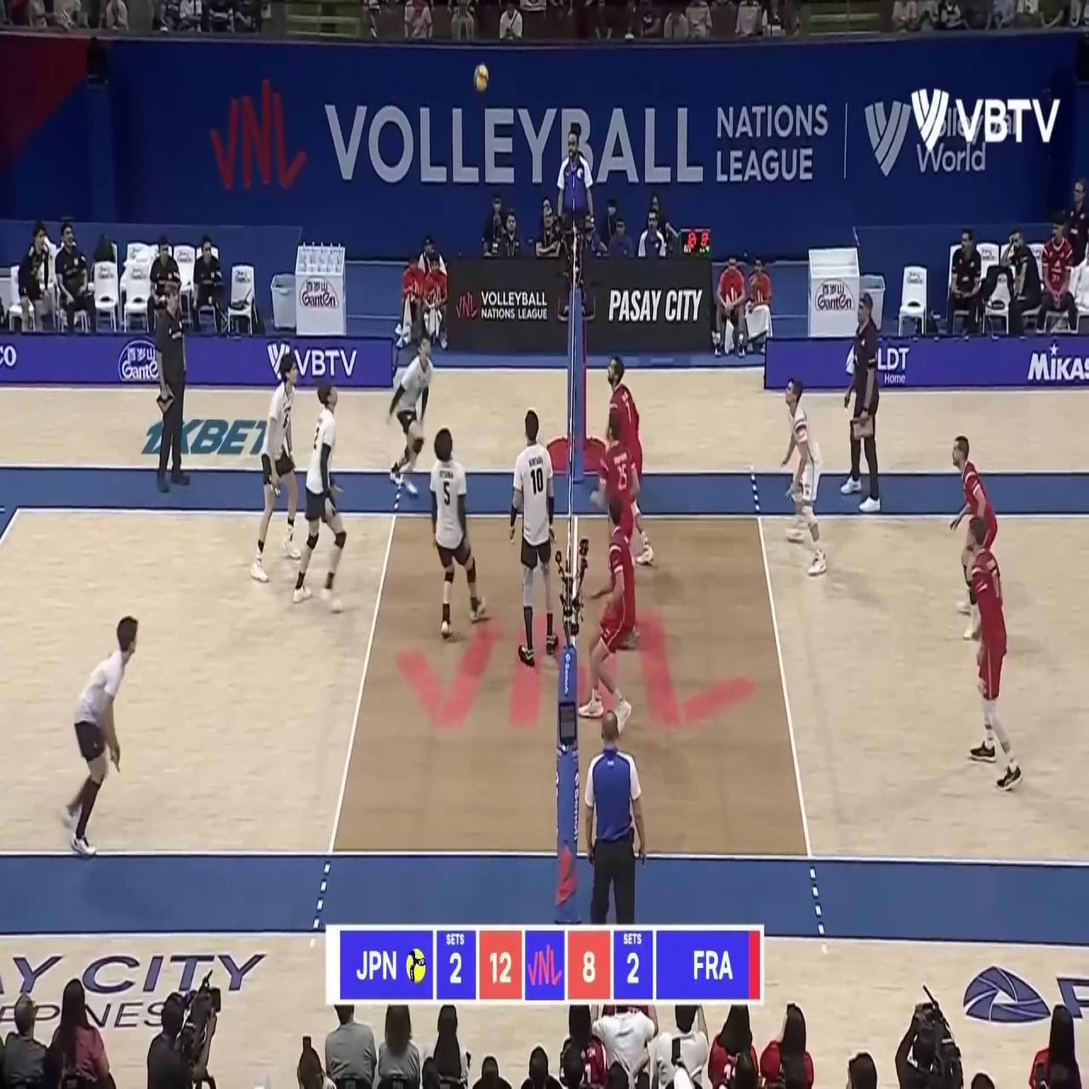ball: (474, 65, 490, 91)
